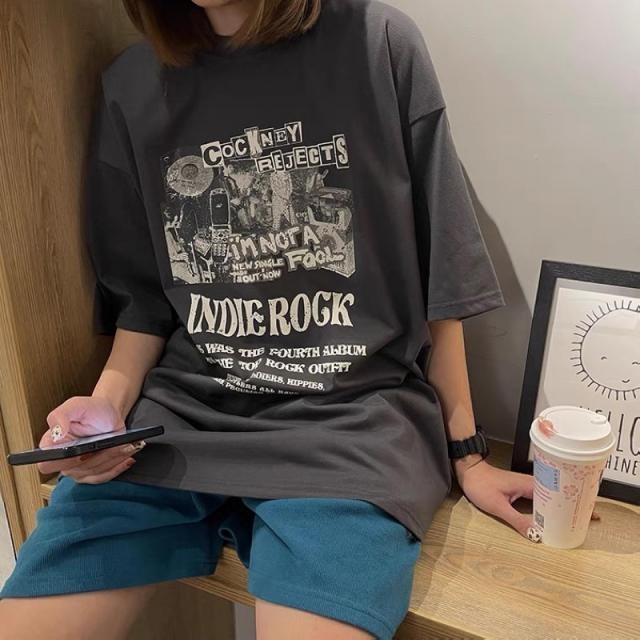Shirt: (74, 1, 509, 542)
